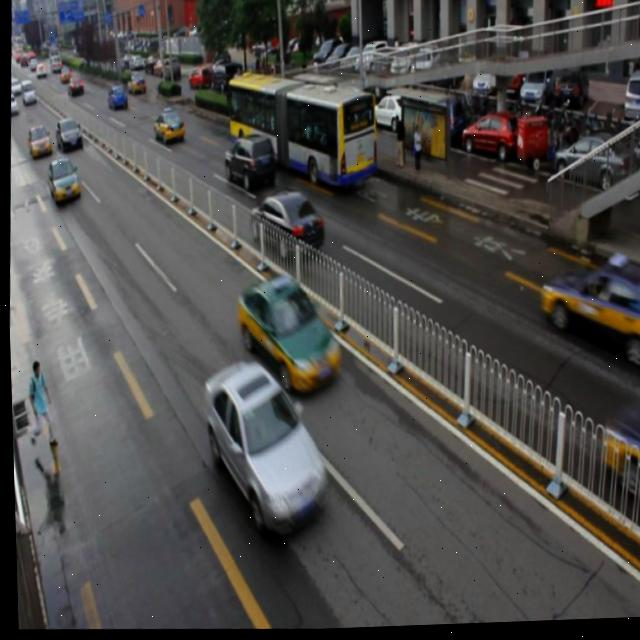car: (195, 359, 326, 541), (232, 274, 343, 401), (534, 254, 640, 375), (246, 188, 324, 262), (220, 132, 272, 194), (45, 154, 80, 204), (152, 107, 183, 146)
van: (223, 65, 378, 198)
